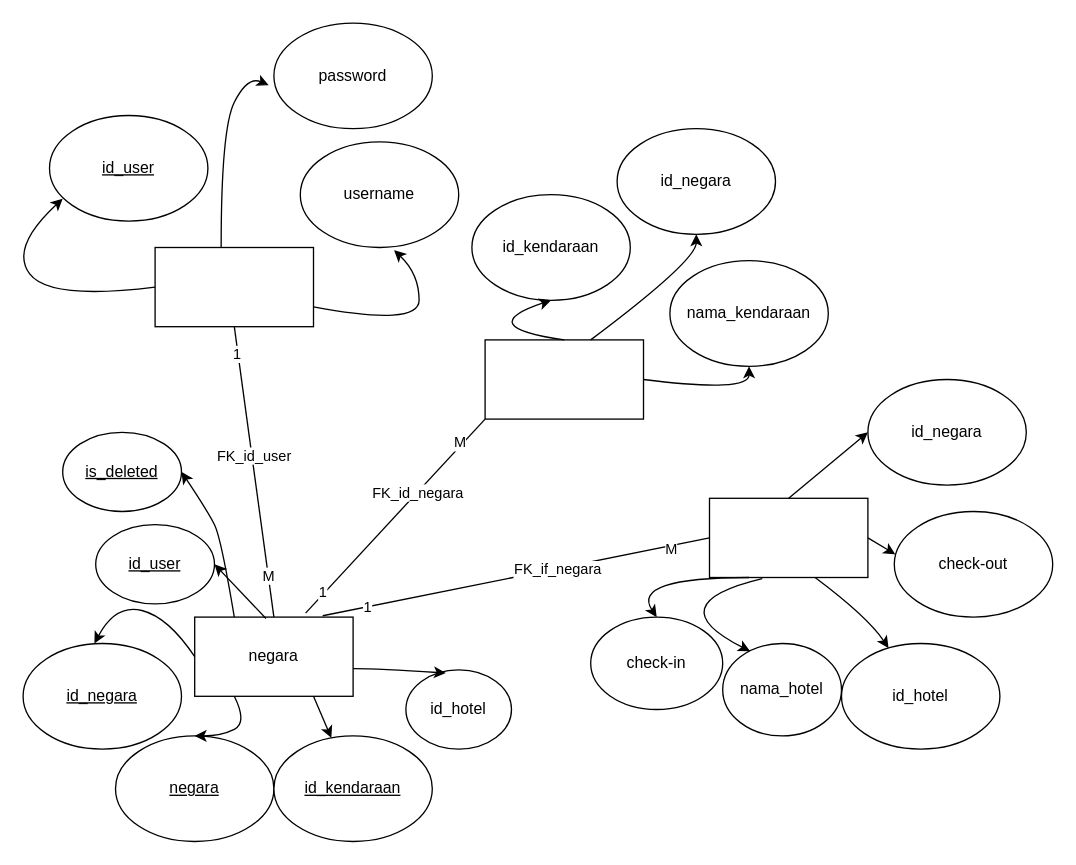
Image size: 1076x865. Some labels were removed from this diagram. The shapes that lost their labels are listed below. From the top down, each one's centre as x and y in pixels, then its label:
At point 234,286: "User".
At point 564,379: "kendaraan".
At point 788,537: "hotel".
